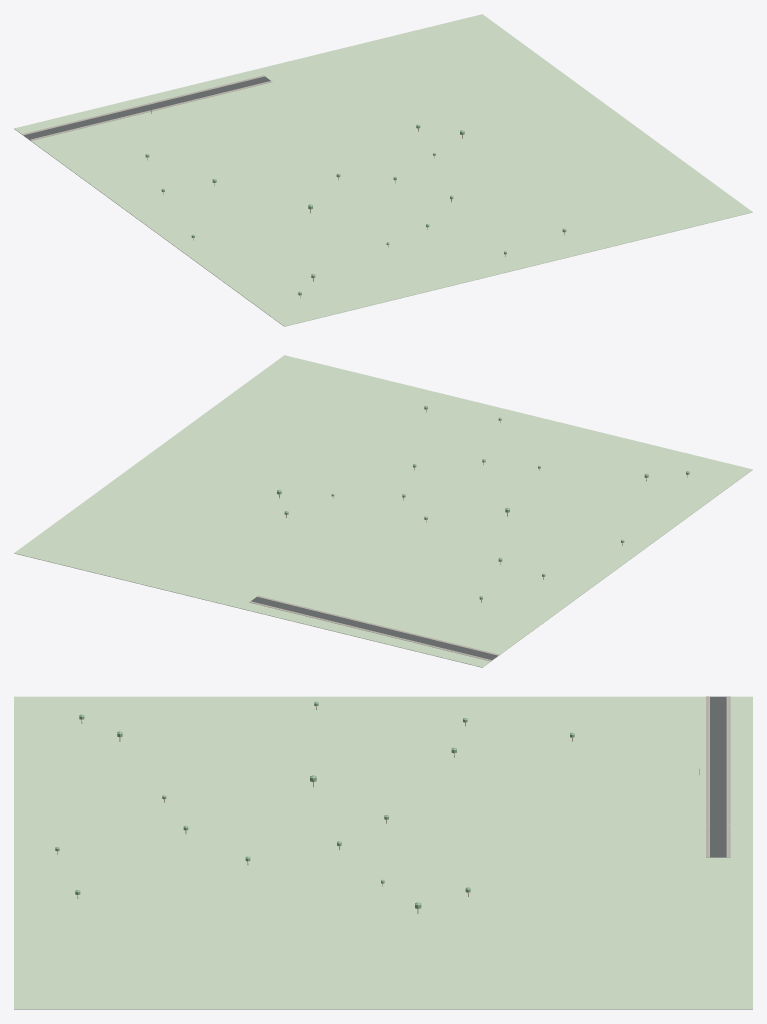
Rendered from chunk_7_2_low.glb.
3 views of the same model, one above another, from view 1: azimuth 30°, elevation 25°; view 2: azimuth 150°, elevation 25°; view 3: azimuth 270°, elevation 25° (orthographic). The views are drawn at different scales.
Visible parts, largest first — view 1: city_grass, city_world_asphalt, city_world_sidewalk; view 2: city_grass, city_world_asphalt, city_world_sidewalk; view 3: city_grass, city_world_asphalt, city_world_sidewalk.
Part boxes in pixels (x1=…): city_grass: x1=14, y1=14, x2=752, y2=326; city_world_asphalt: x1=24, y1=76, x2=270, y2=139; city_world_sidewalk: x1=22, y1=75, x2=272, y2=140; city_grass: x1=14, y1=355, x2=752, y2=667; city_world_asphalt: x1=251, y1=597, x2=497, y2=659; city_world_sidewalk: x1=249, y1=595, x2=499, y2=661; city_grass: x1=14, y1=696, x2=752, y2=1009; city_world_asphalt: x1=710, y1=696, x2=726, y2=857; city_world_sidewalk: x1=706, y1=696, x2=730, y2=857.
Bounding box in the file's own units: 512 × 9.58 × 512.
